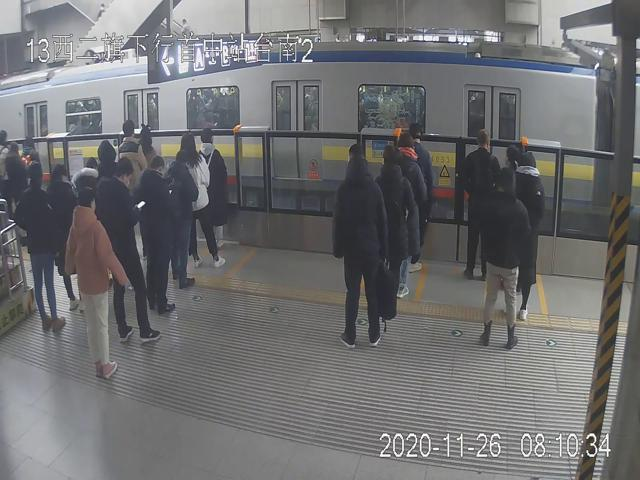person: (65, 187, 131, 382), (96, 158, 162, 344), (333, 144, 389, 351), (482, 168, 531, 349), (15, 165, 68, 332), (375, 139, 416, 320), (138, 154, 179, 315), (177, 133, 224, 267), (464, 128, 499, 287), (197, 125, 229, 248)
